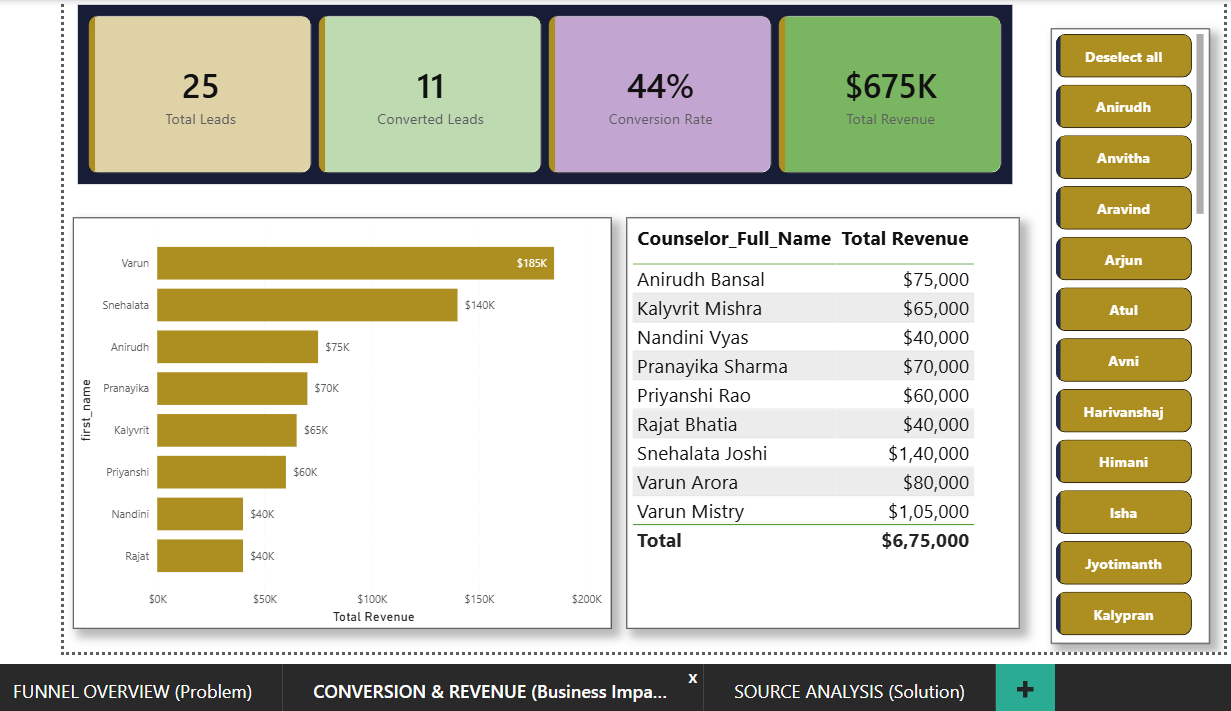

Layout of this report page (visuals, bound fields, positions):
{"tool":"powerbi","page":{"name":"CONVERSION & REVENUE (Business Impact)","canvas":[1280,720],"ordinal":1},"visuals":[{"type":"cardVisual","fields":{"Data":["leads.Total Leads","leads.Converted Leads","leads.Conversion Rate","leads.Total Revenue"]},"box":[9.9,0,1045.2,208.7],"z":0},{"type":"clusteredBarChart","fields":{"Y":["leads.Total Revenue"],"Category":["counselors.first_name"]},"box":[9.9,240.2,594.7,453.9],"z":1000},{"type":"tableEx","fields":{"Values":["counselors.Counselor_Full_Name","leads.Total Revenue"]},"box":[621.2,240.2,434,453.9],"z":2000},{"type":"advancedSlicerVisual","fields":{"Values":["counselors.first_name"]},"box":[1090,31.5,175.6,679.2],"z":3000}]}

Visuals, with their boxes on the page's 1280x720 design canvas (x1, y1, x2, y2). These are canvas units, not pixel positions in the 1231x711 screenshot, which may show the page scaled, cropped or inside an application window:
cardVisual - leads.Total Leads x leads.Converted Leads: (left=10, top=0, right=1055, bottom=209)
clusteredBarChart - leads.Total Revenue x counselors.first_name: (left=10, top=240, right=605, bottom=694)
tableEx - counselors.Counselor_Full_Name x leads.Total Revenue: (left=621, top=240, right=1055, bottom=694)
advancedSlicerVisual - counselors.first_name: (left=1090, top=32, right=1266, bottom=711)
